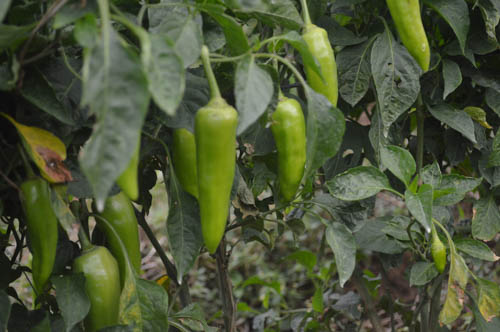ChiliPepper: (197, 109, 237, 253), (23, 180, 56, 291), (100, 194, 142, 280), (77, 250, 119, 331), (274, 98, 303, 201), (306, 22, 337, 111), (390, 3, 430, 69)
